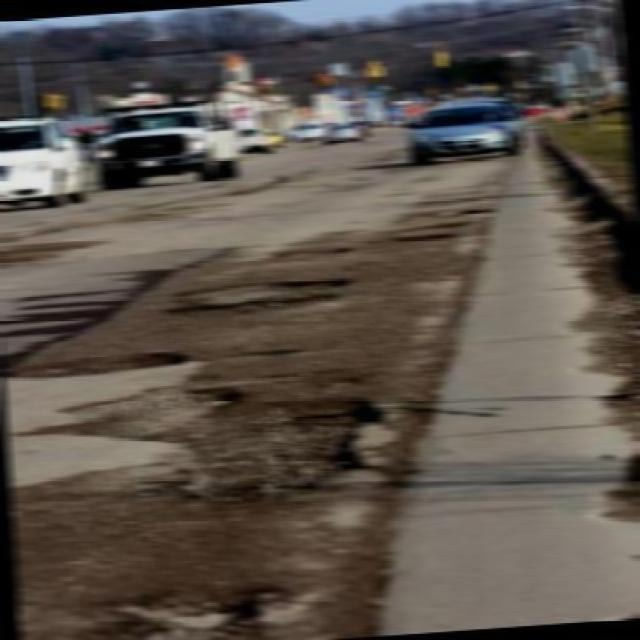Pothole: (22, 377, 269, 451), (243, 386, 388, 485), (162, 267, 352, 324), (115, 578, 281, 640), (0, 342, 193, 388), (389, 205, 496, 248), (268, 243, 360, 263)
